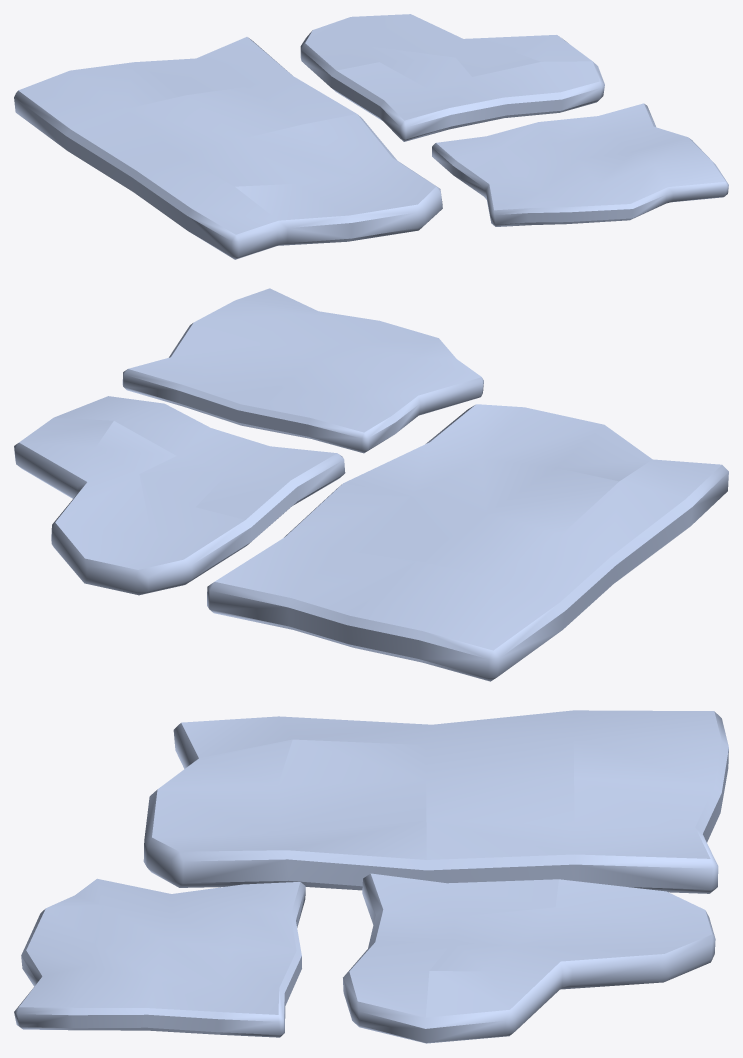
The model's file is floe11.fbx.
The picture shows the model from 3 angles, top to bottom: view 1: azimuth 30°, elevation 25°; view 2: azimuth 150°, elevation 25°; view 3: azimuth 270°, elevation 25°; orthographic projection. The views are drawn at different scales.
Parts seen in each view (by area): view 1: Plane.024, Plane.026, Plane.025; view 2: Plane.024, Plane.026, Plane.025; view 3: Plane.024, Plane.026, Plane.025.
Part boxes in pixels (x1=…): Plane.024: x1=14, y1=37, x2=442, y2=259; Plane.026: x1=300, y1=14, x2=604, y2=141; Plane.025: x1=432, y1=103, x2=728, y2=226; Plane.024: x1=207, y1=404, x2=728, y2=681; Plane.026: x1=14, y1=396, x2=345, y2=595; Plane.025: x1=122, y1=288, x2=483, y2=453; Plane.024: x1=143, y1=710, x2=728, y2=893; Plane.026: x1=343, y1=873, x2=715, y2=1043; Plane.025: x1=14, y1=878, x2=305, y2=1037.
Size of the model in its own units: 359 by 29.54 by 353.
